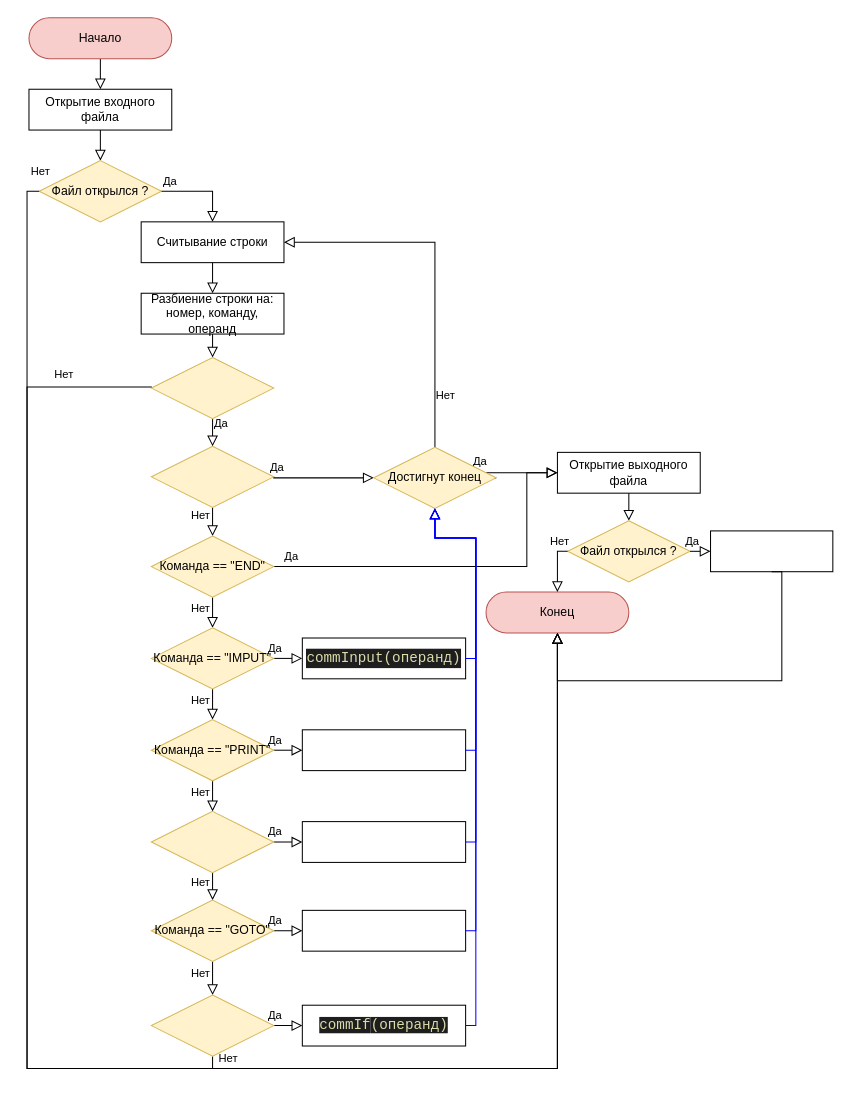
Image size: 851x1097. Some labels were removed from this diagram. The centre of each missing label's shape, as x and y in pixels:
commGoTo (операнд): (383,930)
commLet (операнд): (383,841)
commPrint (операнд): (383,750)
Запись в файл: (771,551)
Команда == "IF": (212,1025)
Команда == "LET": (212,841)
Команда == "REM": (212,476)
Корректный ввод?: (212,387)
